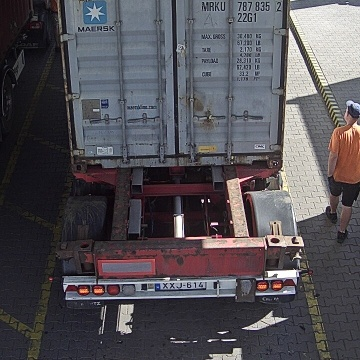serial_id: (202, 1, 282, 11)
